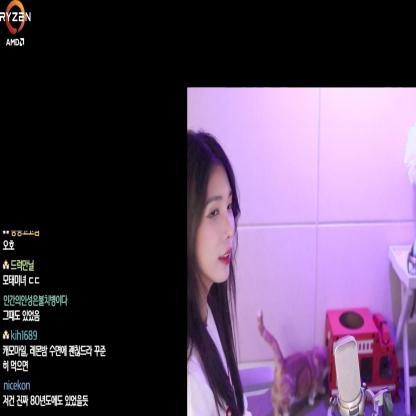streamer: (187, 130, 253, 416)
